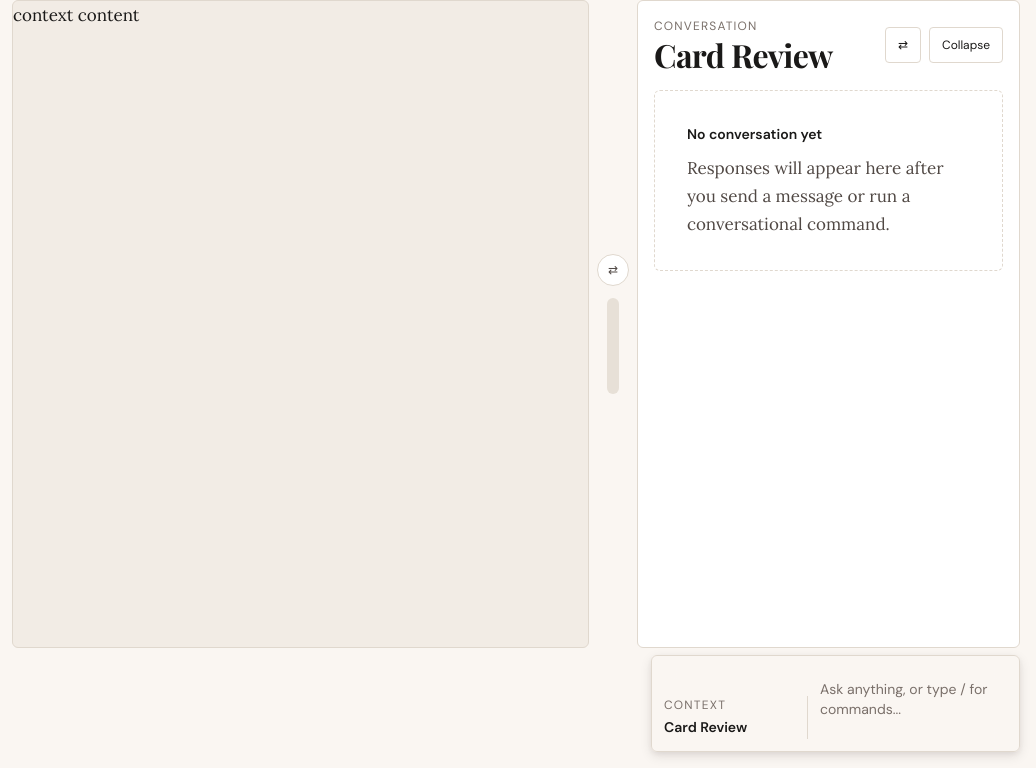
Test case: CommandBar component behavior › opens command autocomplete for slash input and shows the current context
Check: the element with class "command-bar__context" is shown, box [664, 696, 808, 739]
Check: the text "Card Review" is shown, box [664, 718, 747, 736]
In the text box named "Command bar": (908, 700) [820, 668, 995, 731], type "/n"
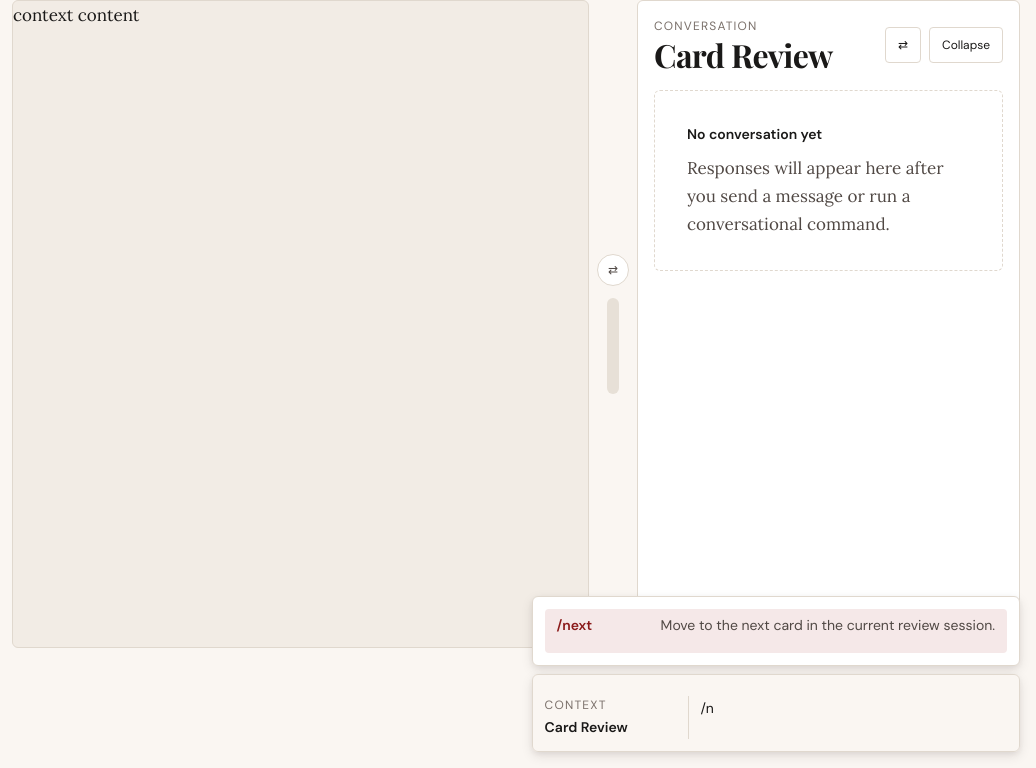
Check: the text "/next" is shown, box [557, 616, 592, 634]
Check: the text "Move to the next card in the current review session." is shown, box [661, 617, 995, 634]
